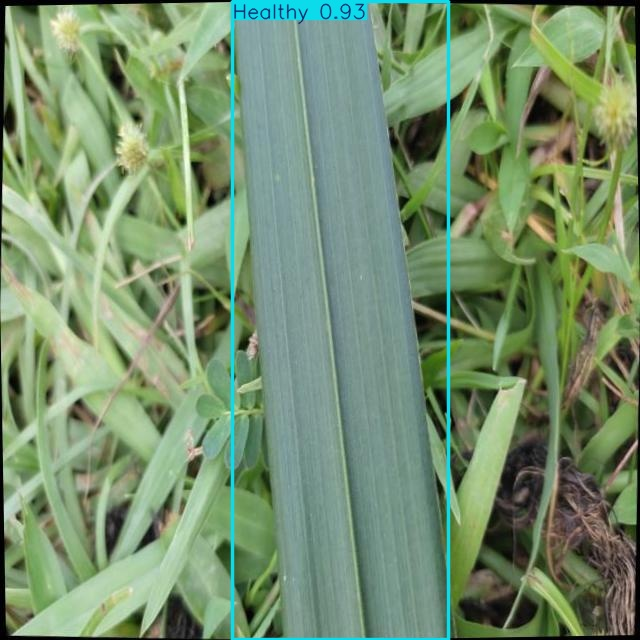Healthy: (233, 2, 449, 639)
